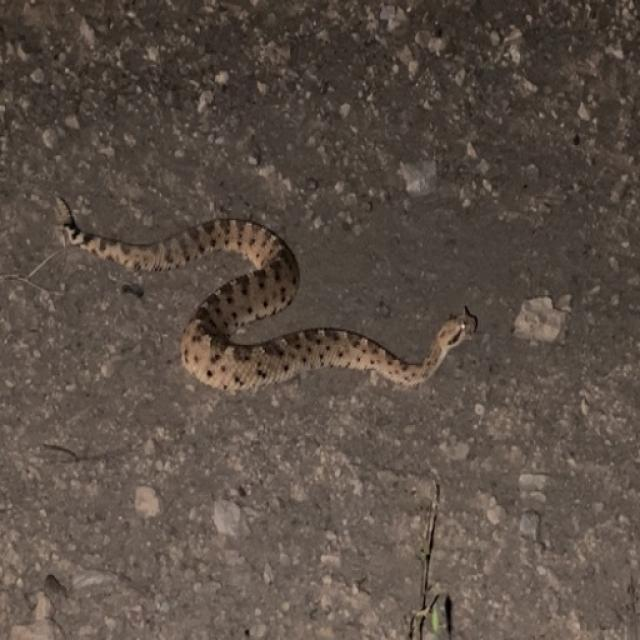snake: (45, 190, 493, 422)
